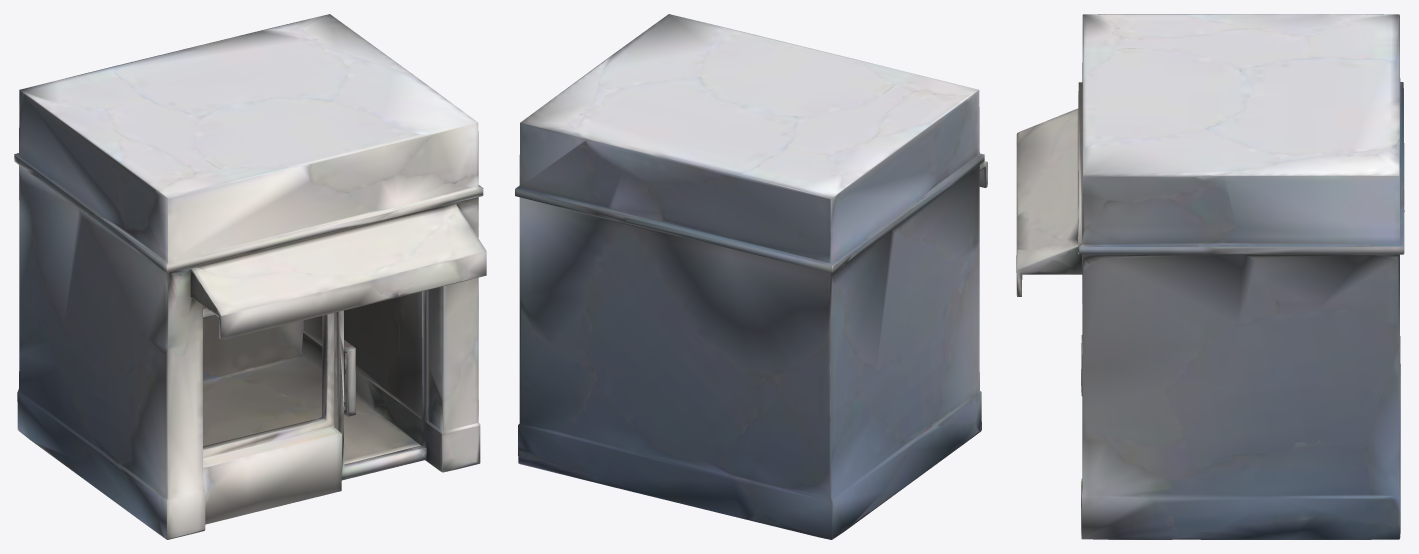
File: trading.glb
3 renders of one model, left to right at view 1: azimuth 30°, elevation 25°; view 2: azimuth 150°, elevation 25°; view 3: azimuth 270°, elevation 25°, orthographic. The views are drawn at different scales.
Visible parts, largest first — view 1: node_0; view 2: node_0; view 3: node_0.
Part boxes in pixels (bbox=[...]): node_0: bbox=[14, 14, 486, 539]; node_0: bbox=[515, 14, 987, 539]; node_0: bbox=[1016, 14, 1404, 539].
Bounding box in the file's own units: 0.6985 × 0.7186 × 0.6933.
Materials: 1 (1 with a texture image).
